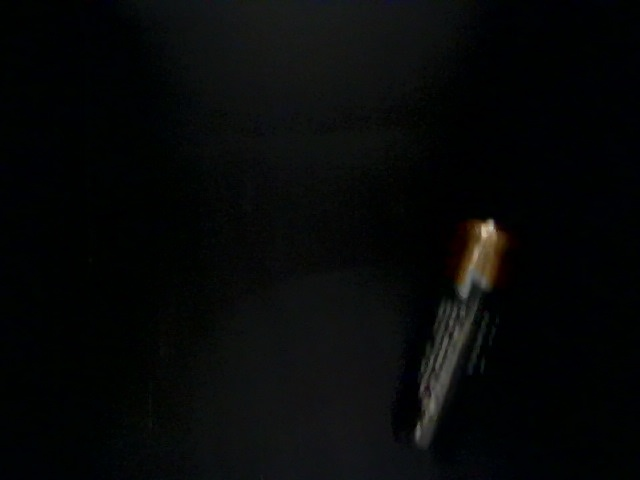QTLJ: (35, 149, 230, 365)
